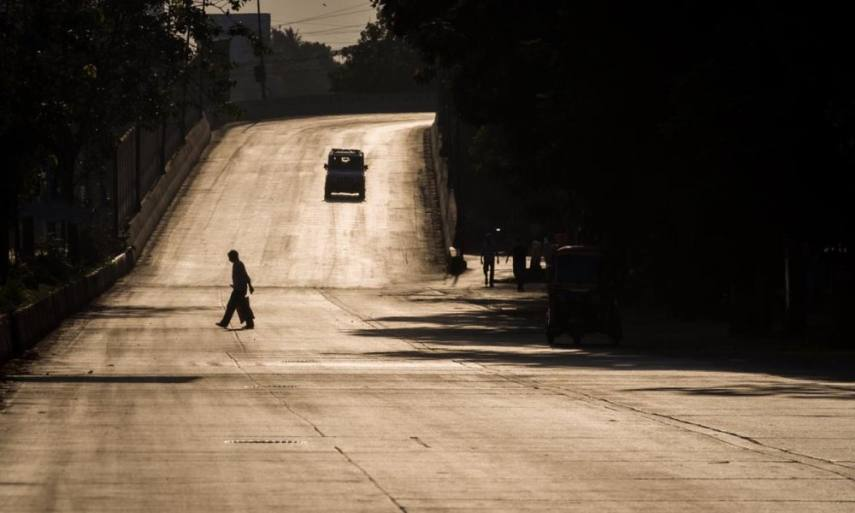Manhole-Closed: (224, 430, 319, 455)
car: (314, 136, 389, 205)
human: (210, 237, 264, 336)
